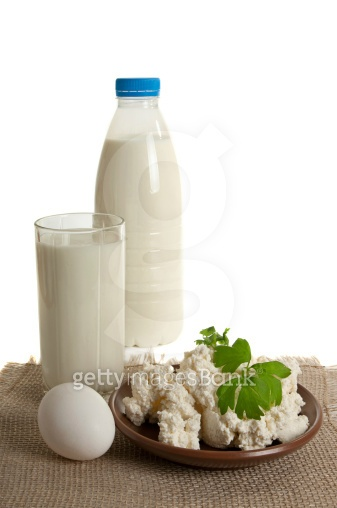glass of milk: (88, 66, 192, 354), (27, 202, 137, 404)
